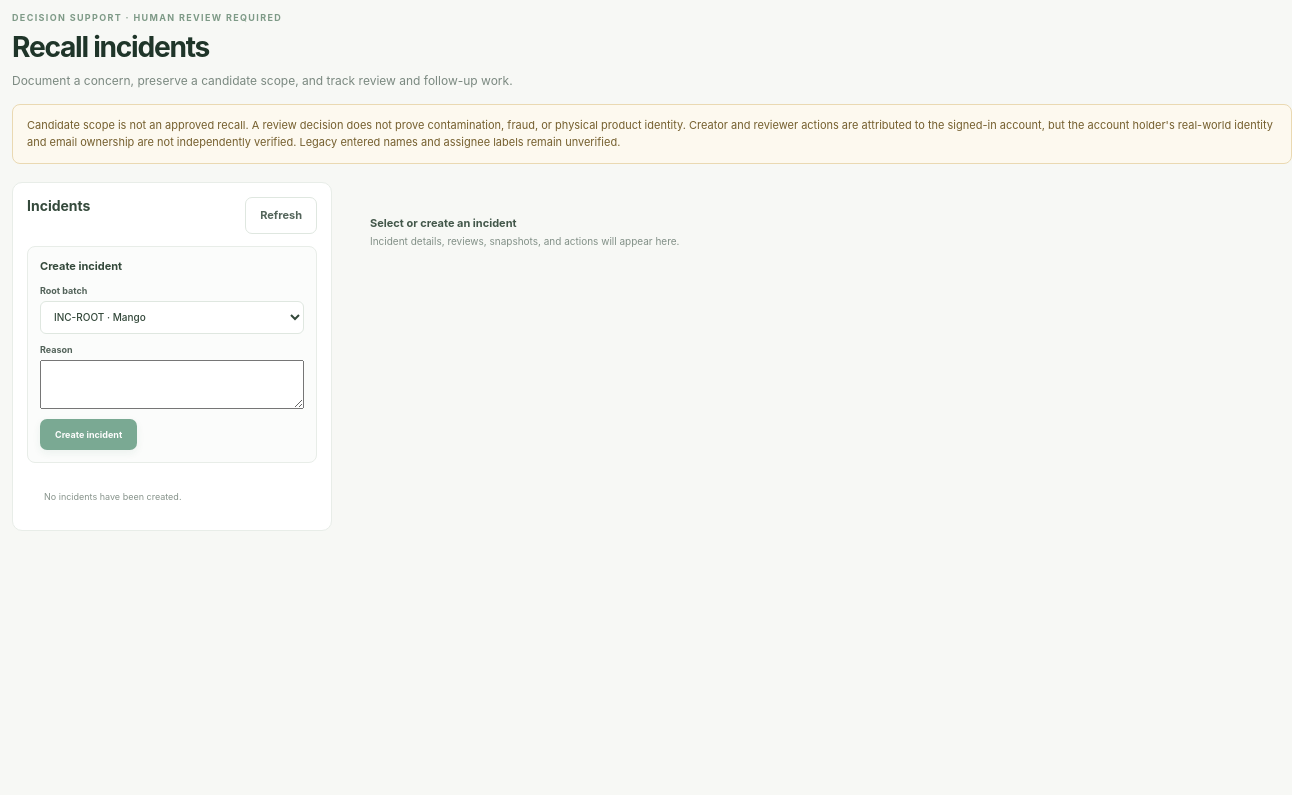
RecallIncidentsDashboard › creates an incident from an existing batch and uses authenticated account attribution
Step 1. Type "Review a reported temperature excursion" into the text box named "Incident reason" → (172, 384), box [40, 360, 304, 409]
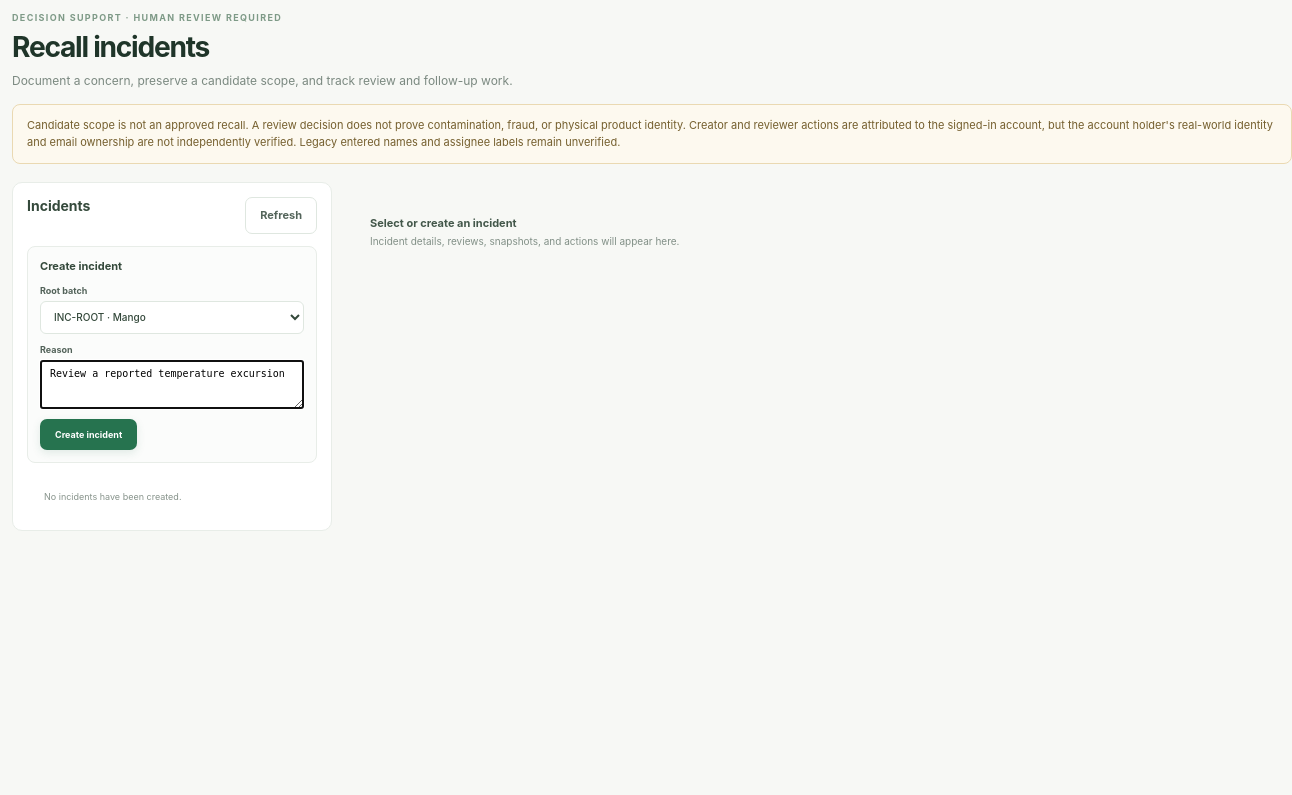
Step 2. Click the button "Create incident" → (89, 434), box [40, 419, 137, 450]
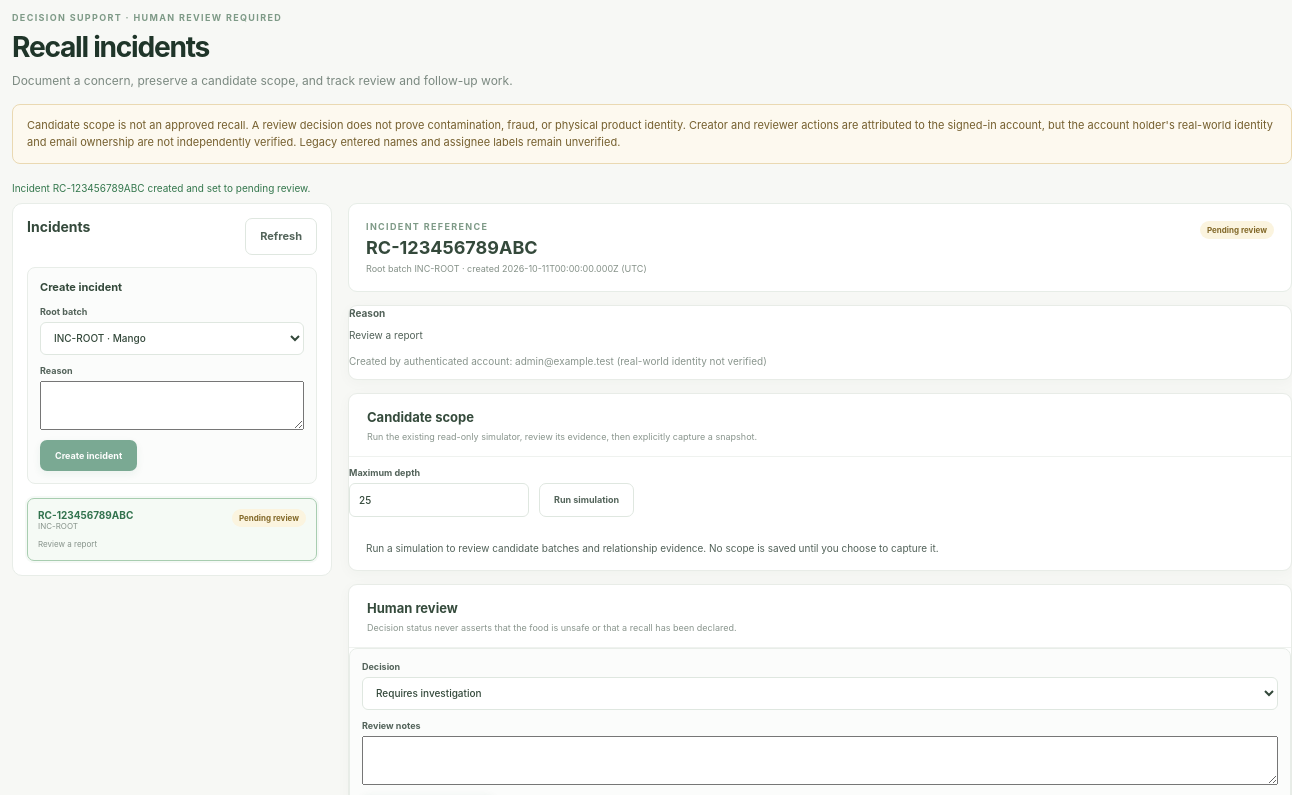
Expected: the text "actions are attributed to the signed-in account" is shown, [27, 118, 1273, 149]
Result: the message shows "created and set to pending review" at [12, 182, 310, 194]
Result: the text "Created by authenticated account: admin@example.test (real-world identity not verified)" is shown at [349, 355, 767, 367]
